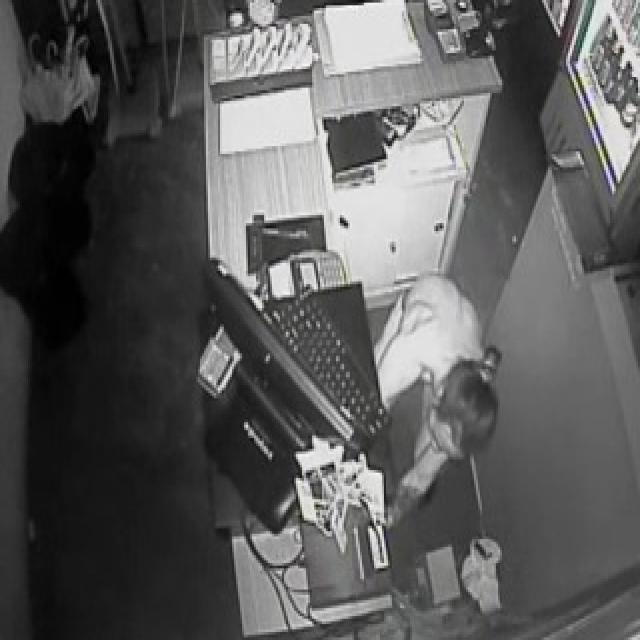thief: (415, 322, 515, 534)
